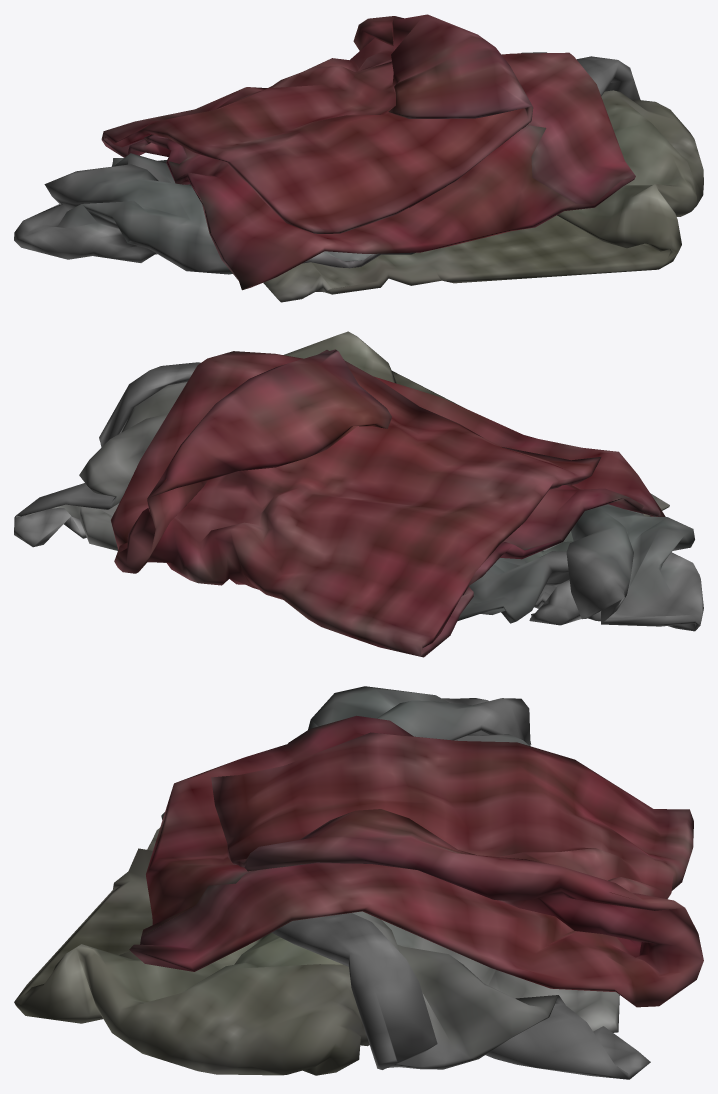
File: ropa_frosted_sheets.glb
The picture shows the model from 3 angles, top to bottom: view 1: azimuth 30°, elevation 25°; view 2: azimuth 150°, elevation 25°; view 3: azimuth 270°, elevation 25°; orthographic projection. The views are drawn at different scales.
Parts seen in each view (by area): view 1: Object_2; view 2: Object_2; view 3: Object_2.
Boxes of the visible parts, x1,y1,x2,y2 form: Object_2: (14,14,703,302); Object_2: (14,331,703,657); Object_2: (14,686,703,1079).
Size of the model in its own units: 0.8 by 0.1546 by 0.6285.
Materials: 1 (1 with a texture image).
